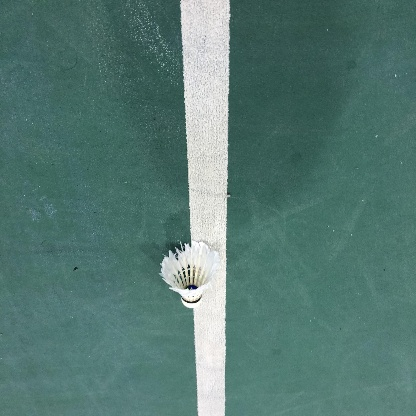ball_single: (161, 242, 219, 308)
